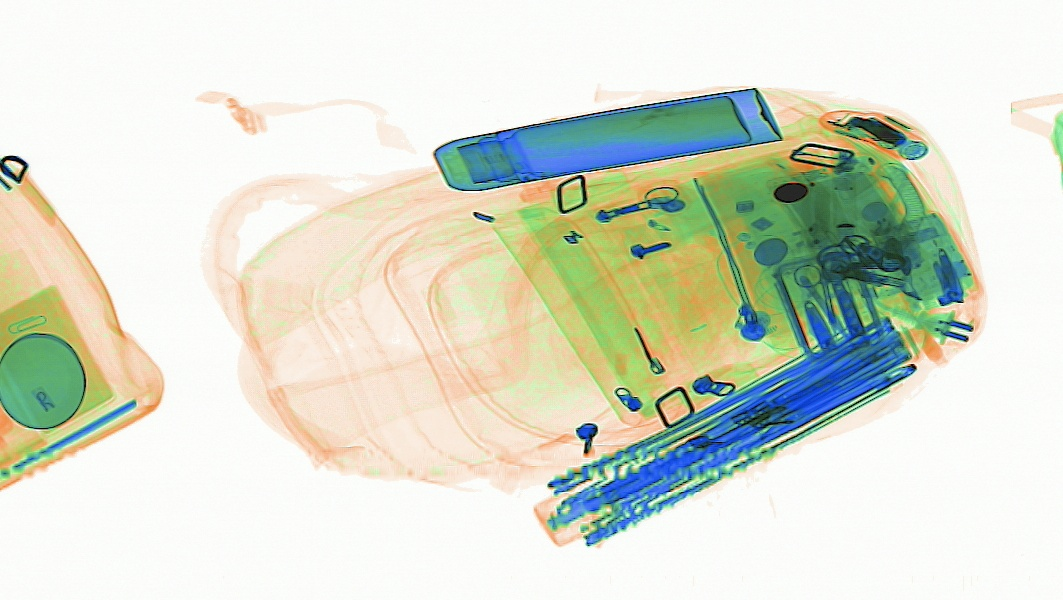scissors: (794, 263, 855, 340)
